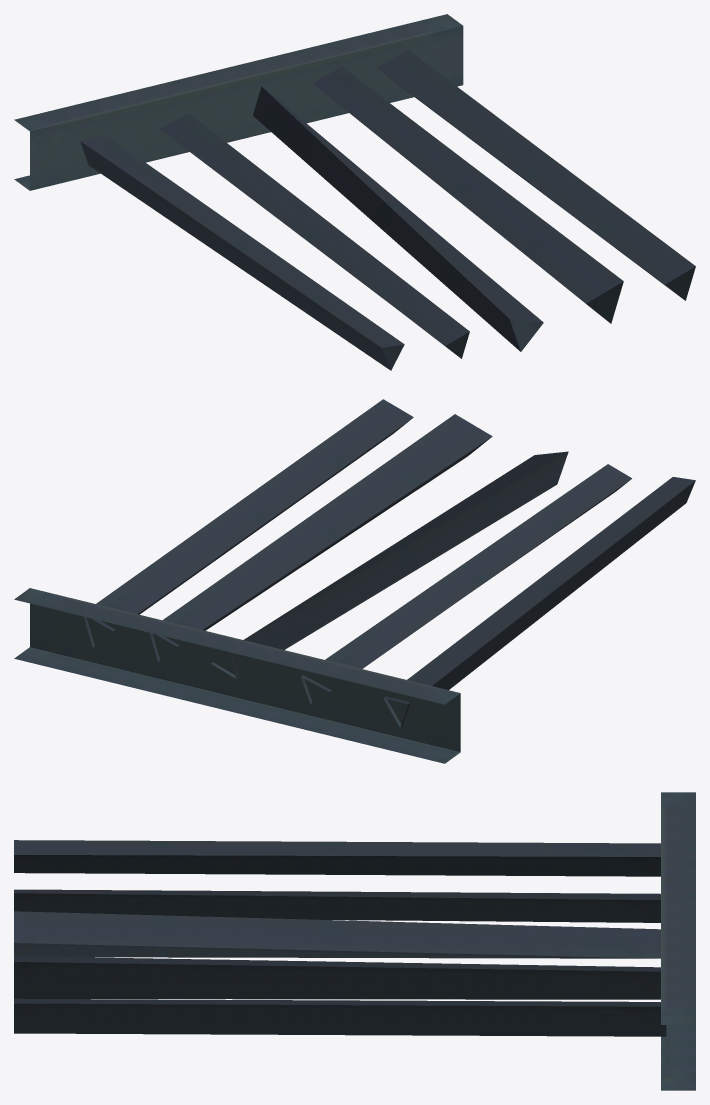
File: railing_e9330a02__zombies2_diffuse_03_64bb9bc2_c1f257.obj
The picture shows the model from 3 angles, top to bottom: view 1: azimuth 30°, elevation 25°; view 2: azimuth 150°, elevation 25°; view 3: azimuth 270°, elevation 25°; orthographic projection. The views are drawn at different scales.
Size of the model in its own units: 4.11 by 0.539 by 5.09.
Materials: 1 (1 with a texture image).
